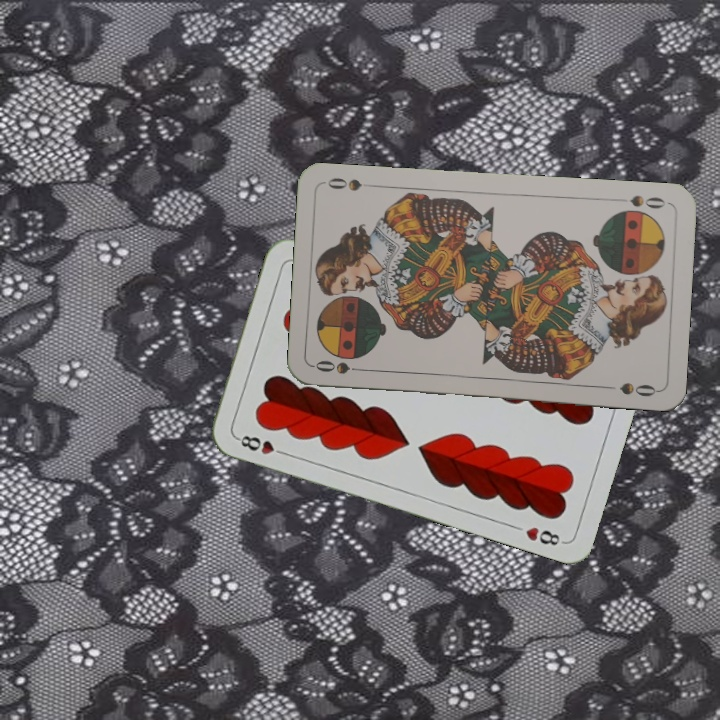H8: (233, 431, 290, 458)
SO: (311, 356, 371, 377), (627, 191, 671, 211)
